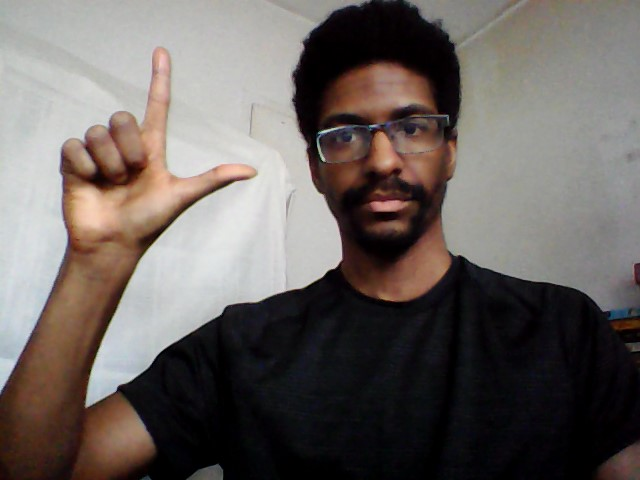l: (54, 41, 263, 247)
